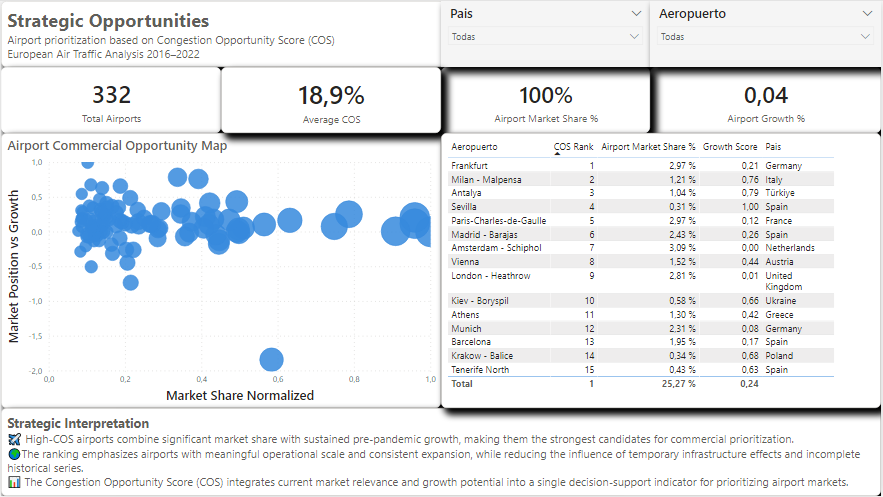

This screenshot's page, from the dashboard's own definition file:
{"tool":"powerbi","page":{"name":"Strategic Opportunities","canvas":[1280,720],"ordinal":4},"visuals":[{"type":"textbox","box":[0,0,1280,96],"z":0},{"type":"card","fields":{"Values":["Medidas.Total Airports"]},"box":[0,96,320,96],"z":1000},{"type":"card","fields":{"Values":["Medidas.Airport Growth %"]},"box":[944,96,336,96],"z":2000},{"type":"card","fields":{"Values":["Medidas.Airport Market Share %"]},"box":[640,96,304,96],"z":3000},{"type":"slicer","fields":{"Values":["Dim_Pais.Pais"]},"box":[640,0,304,96],"z":4000},{"type":"slicer","fields":{"Values":["Dim_Aeropuerto.Aeropuerto"]},"box":[944,0,336,96],"z":5000},{"type":"scatterChart","title":"Airport Commercial Opportunity Map","fields":{"X":["Medidas.Market Share Normalized"],"Y":["Medidas.Growth Score"],"Size":["Medidas.Total Flights"],"Category":["Dim_Aeropuerto.Aeropuerto"]},"box":[0,192,640,400],"z":6000},{"type":"card","fields":{"Values":["Medidas.Average COS"]},"box":[320,96,320,96],"z":7000},{"type":"textbox","box":[0,592,1280,128],"z":8000},{"type":"tableEx","fields":{"Values":["Dim_Aeropuerto.Aeropuerto","Medidas.COS Rank","Medidas.Airport Market Share %","Medidas.Growth Score","Dim_Aeropuerto.Pais"]},"box":[640,192,640,400],"z":9000}]}

Visuals, with their boxes in screenshot pixels (x1, y1, x2, y2), scaled from the page's 1280x720 canvas onto the 883x497 screenshot:
textbox: x1=0, y1=0, x2=882, y2=66
card - Medidas.Total Airports: x1=0, y1=66, x2=221, y2=133
card - Medidas.Airport Growth %: x1=651, y1=66, x2=882, y2=133
card - Medidas.Airport Market Share %: x1=442, y1=66, x2=651, y2=133
slicer - Dim_Pais.Pais: x1=442, y1=0, x2=651, y2=66
slicer - Dim_Aeropuerto.Aeropuerto: x1=651, y1=0, x2=882, y2=66
"Airport Commercial Opportunity Map" scatterChart: x1=0, y1=133, x2=442, y2=409
card - Medidas.Average COS: x1=221, y1=66, x2=442, y2=133
textbox: x1=0, y1=409, x2=882, y2=496
tableEx - Dim_Aeropuerto.Aeropuerto x Medidas.COS Rank: x1=442, y1=133, x2=882, y2=409
